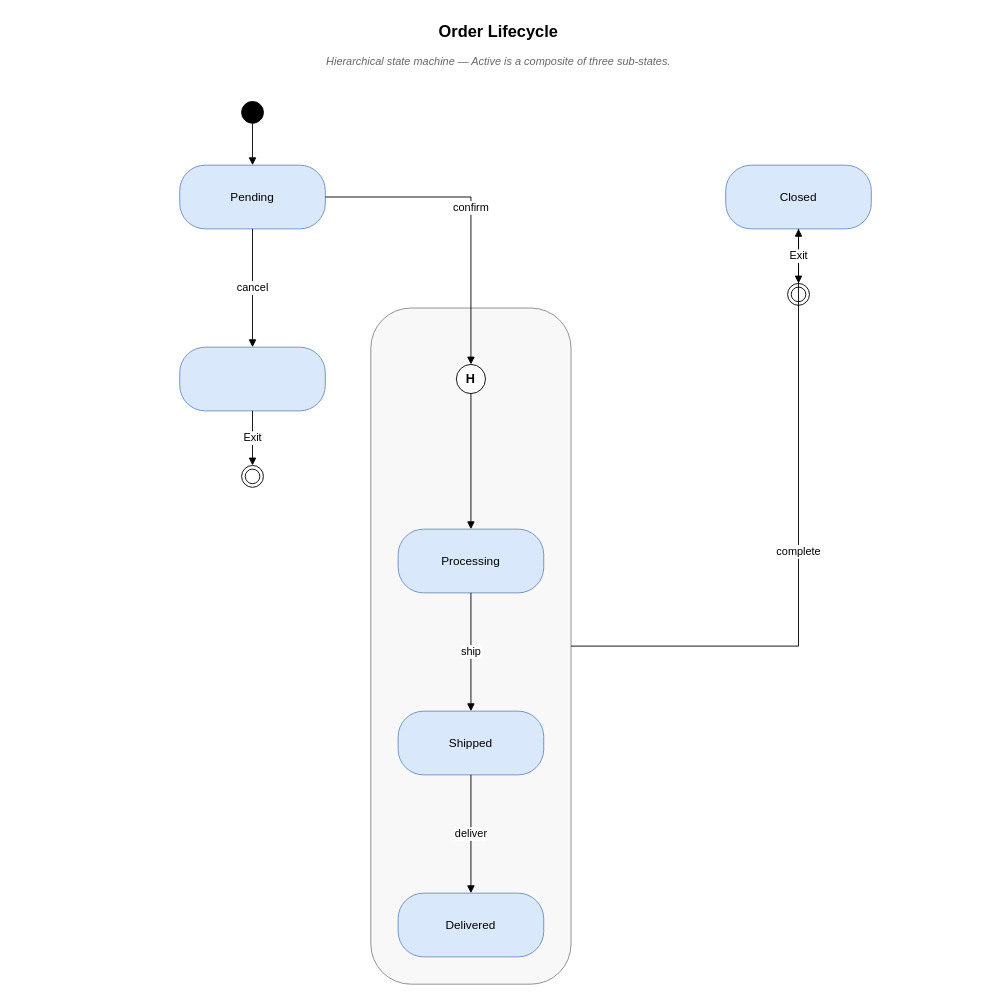
The diagram is 996 pixels wide and 1000 high, and some of its shapes have lost their labels. The box of each missing label's shape, as (x1, y1, x2, y2) in pixels:
Active: (370, 307, 571, 984)
Cancelled: (179, 346, 325, 411)
